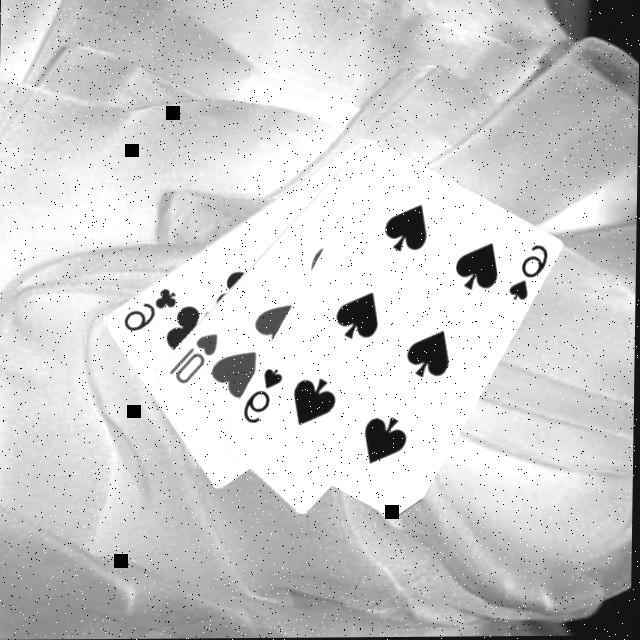10H: (168, 332, 222, 389)
6S: (506, 244, 553, 307), (240, 368, 288, 429)
9C: (121, 286, 182, 336)
